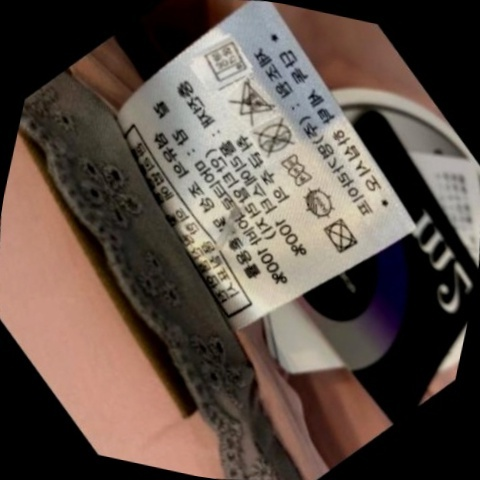30C: (192, 32, 257, 92)
DN_dry_clean: (241, 111, 303, 165)
DN_tumble_dry: (316, 212, 363, 259)
dry_flat_in_shade: (291, 175, 347, 225)
non_chlorine_bleach: (220, 75, 281, 131)
wring: (268, 145, 322, 198)
